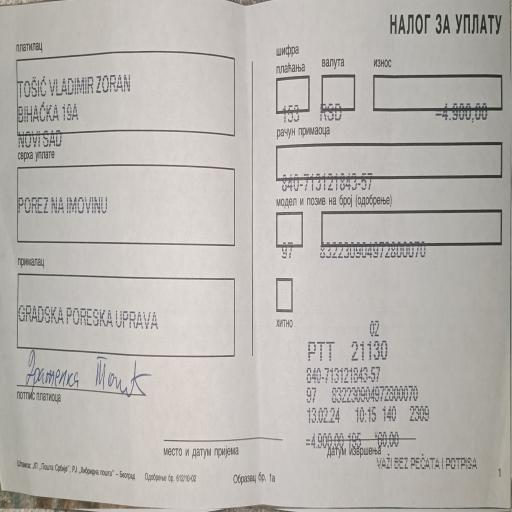svrha_uplate: (18, 148, 208, 245)
uplatnica: (276, 40, 507, 269)
